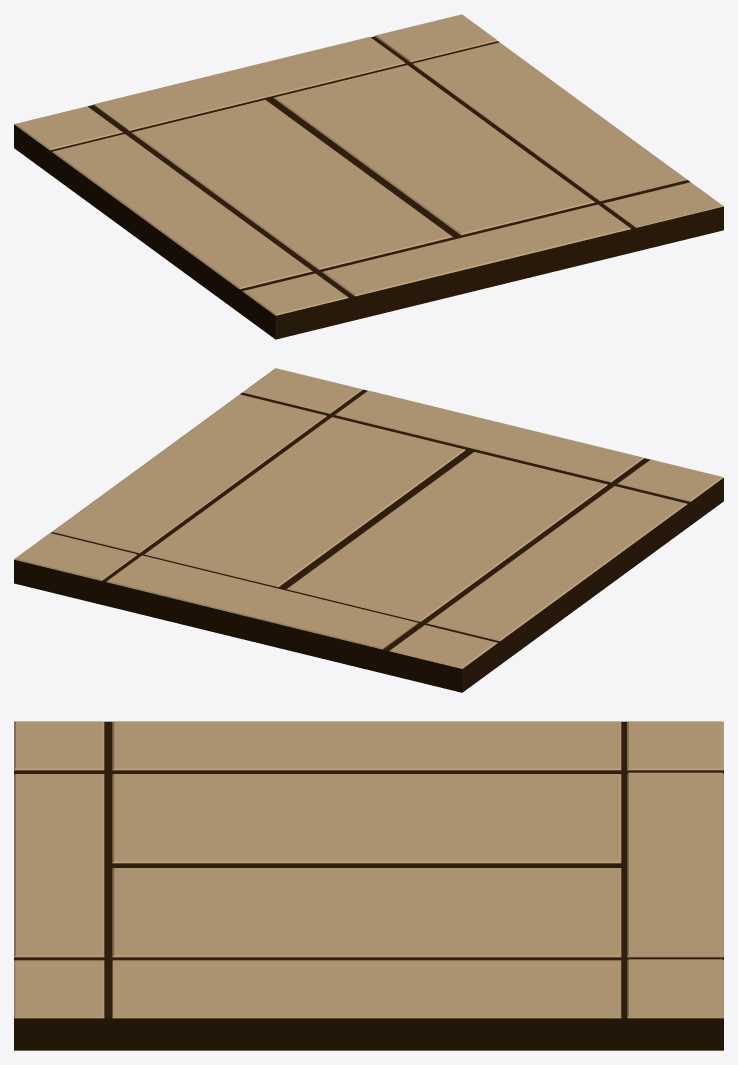
Rendered from suelo4.fbx.
3 renders of one model, top to bottom at view 1: azimuth 30°, elevation 25°; view 2: azimuth 150°, elevation 25°; view 3: azimuth 270°, elevation 25°, orthographic. The views are drawn at different scales.
Parts seen in each view (by area): view 1: Cube.001; view 2: Cube.001; view 3: Cube.001.
Part boxes in pixels (x1,y1,x2,y2): Cube.001: (14, 14, 723, 339); Cube.001: (14, 368, 723, 692); Cube.001: (14, 721, 723, 1050).
Bounding box in the file's own units: 5765 × 307 × 5829.
